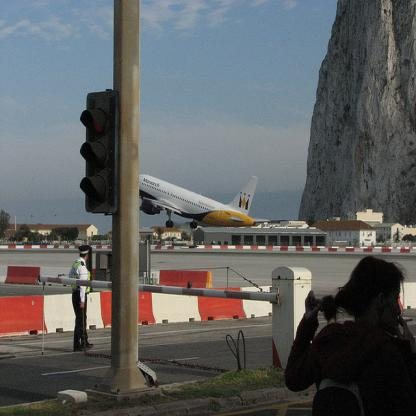backpack: (310, 378, 366, 416)
